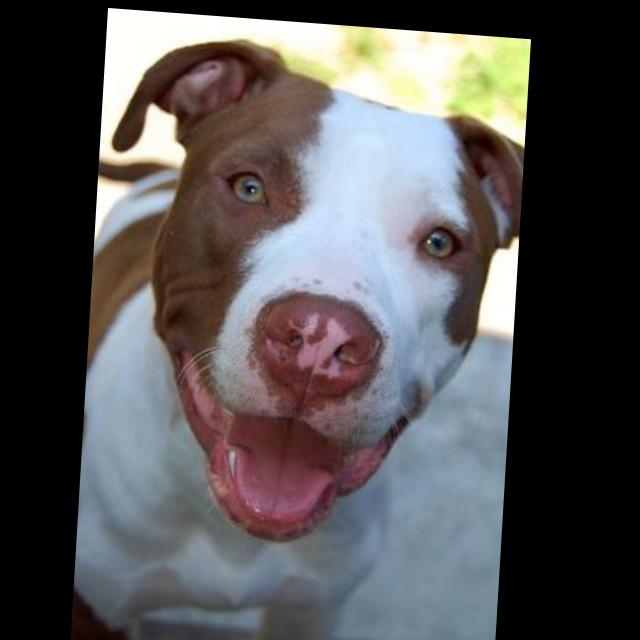amstaff: (80, 25, 532, 640)
